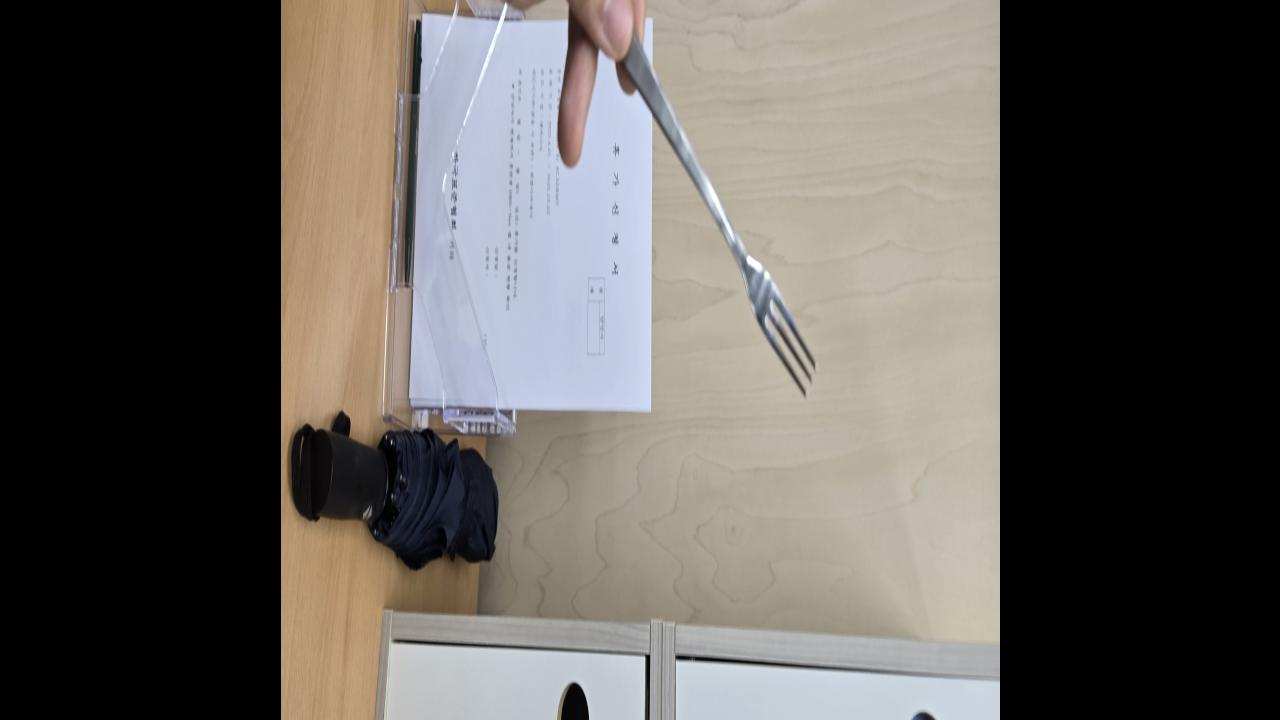fork: (624, 37, 818, 401)
